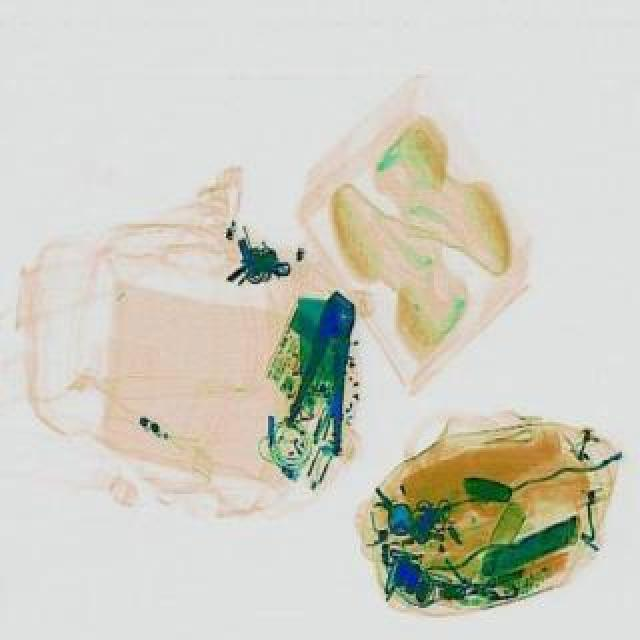wrench: (278, 286, 376, 456)
